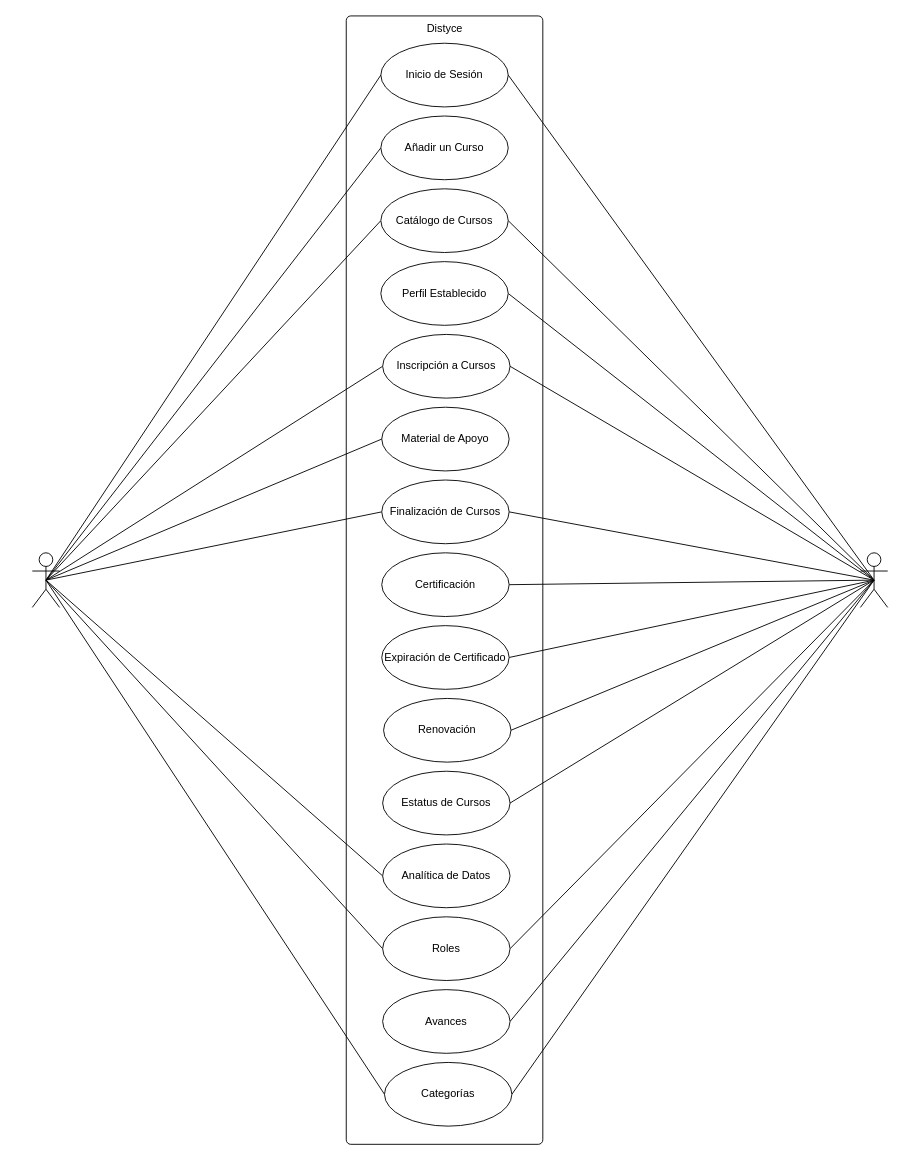
This 914x1160 diagram has some shape labels left out. The centre of each missing label's shape, as x and y in pixels:
Coordinador: (x=45, y=579)
Empleado: (x=873, y=579)
